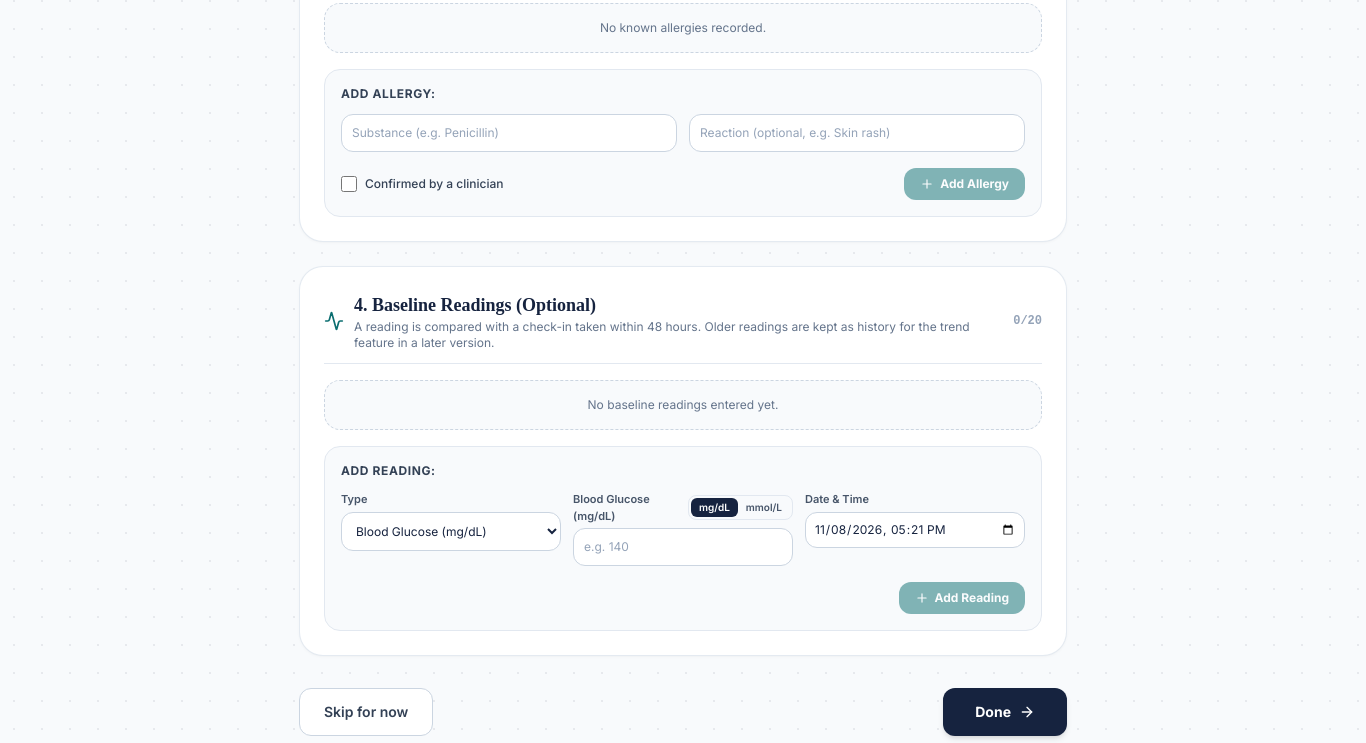
Test: Bug Bash #85: Observation Input Card Glucose Unit Selector › rejects 1.0 mmol/L (18 mg/dL < 20 mg/dL server limit) with error saying 1.1 and 33.3 mmol/L
(page scrolled)
Expected: the text "Add Reading:" is shown, x1=341 y1=463 x2=436 y2=478
Click the button with id "glucose-unit-mmol-btn" at (764, 508), box x1=738 y1=498 x2=790 y2=517
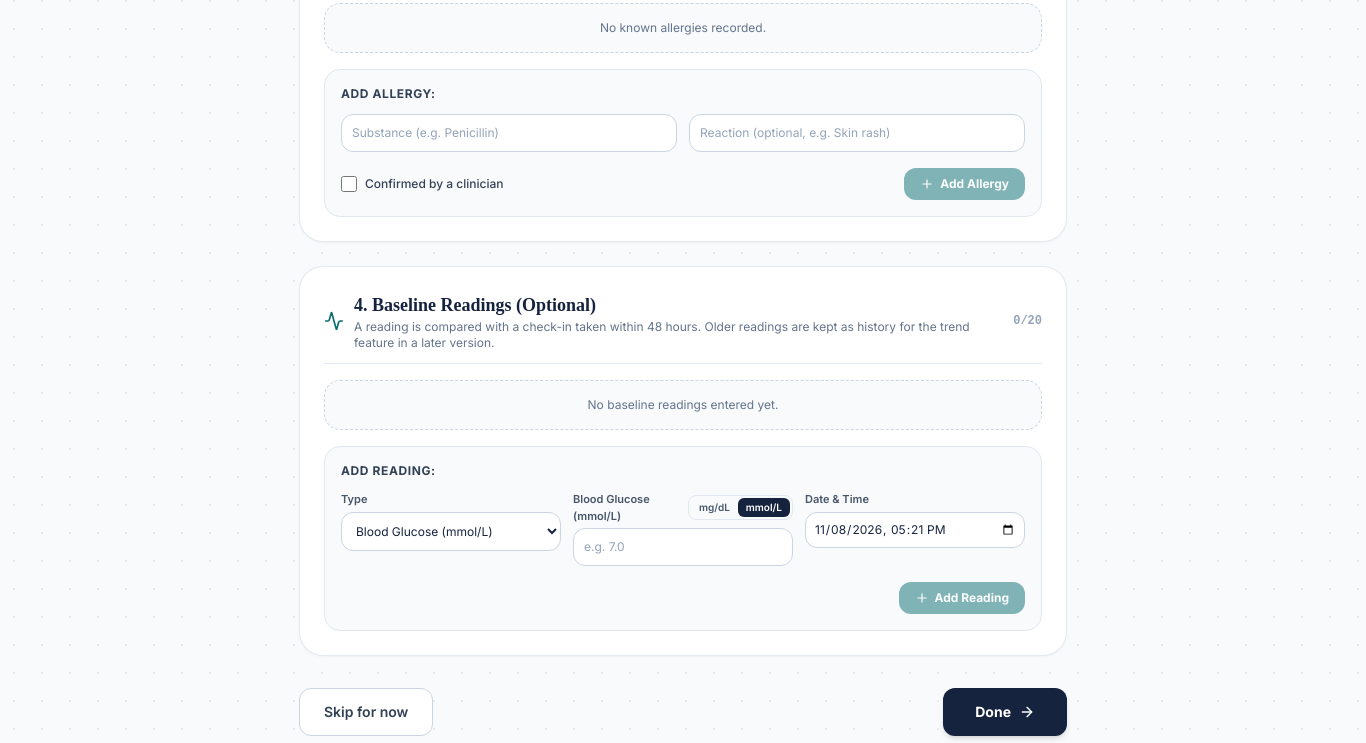
Type "1.0" into the number field with placeholder "e.g. 7.0" at (683, 547), box x1=573 y1=528 x2=793 y2=566
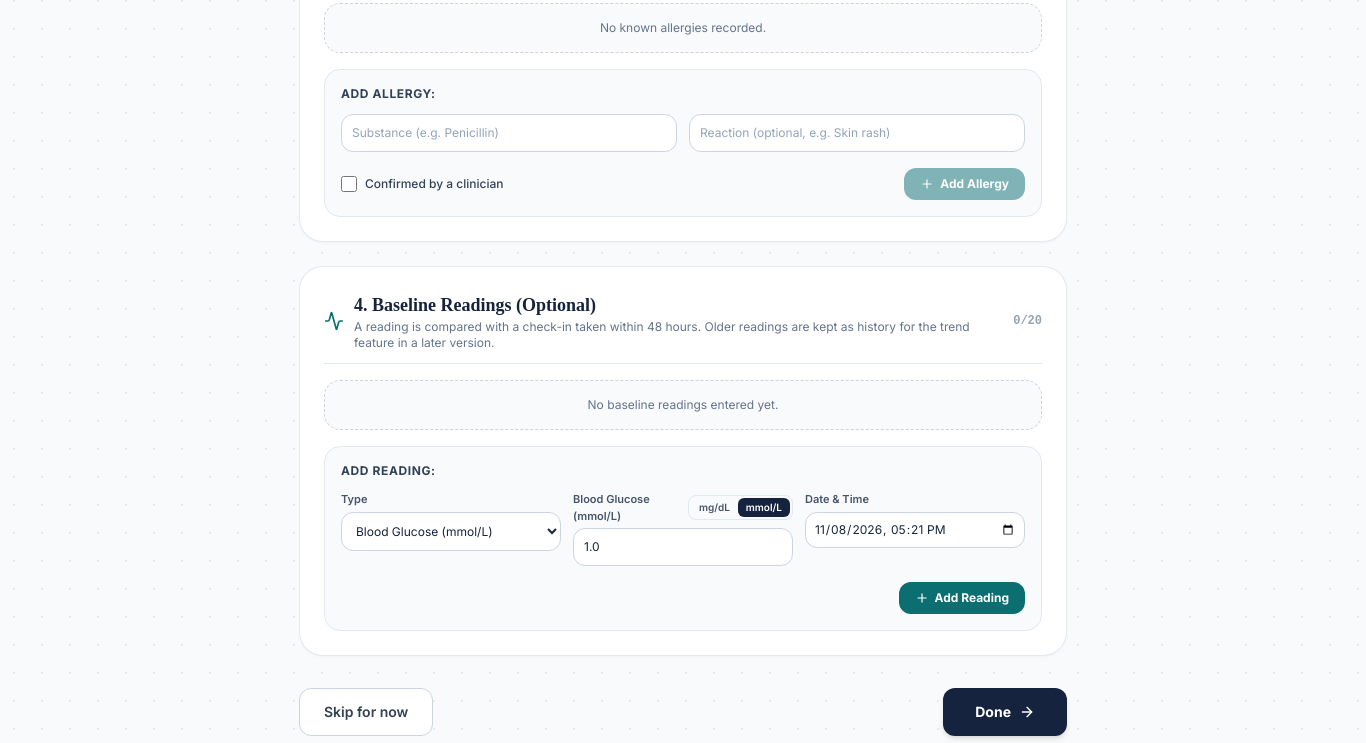
Click the button "Add Reading" at (962, 598), box x1=898 y1=582 x2=1025 y2=614
(page scrolled)
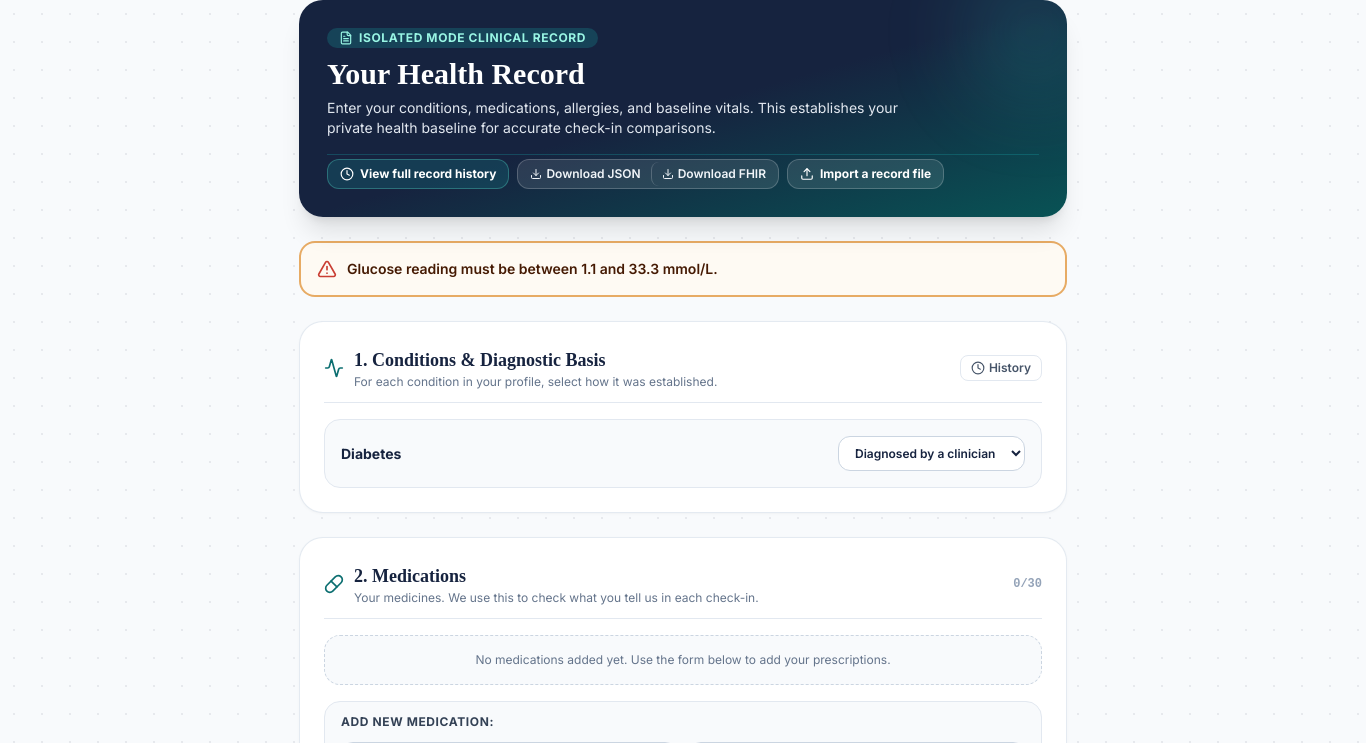
Expected: the text "Glucose reading must be between 1.1 and 33.3 mmol/L." is shown, x1=347 y1=259 x2=718 y2=279
